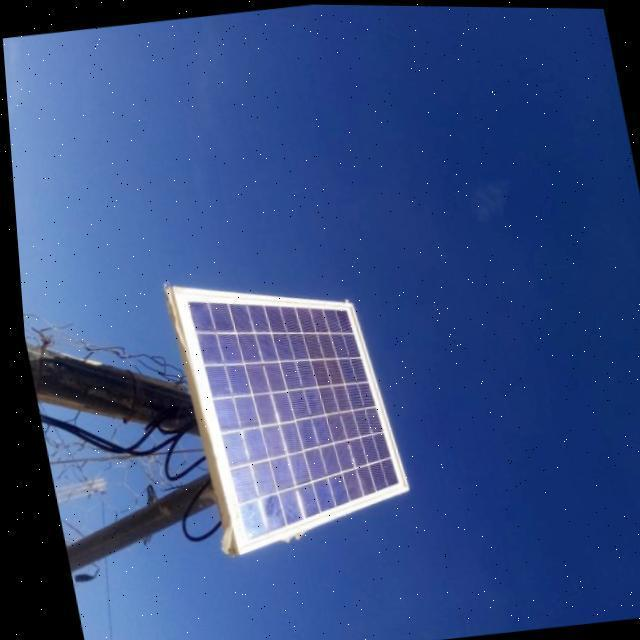Normal Solar Panel: (166, 261, 410, 556)
